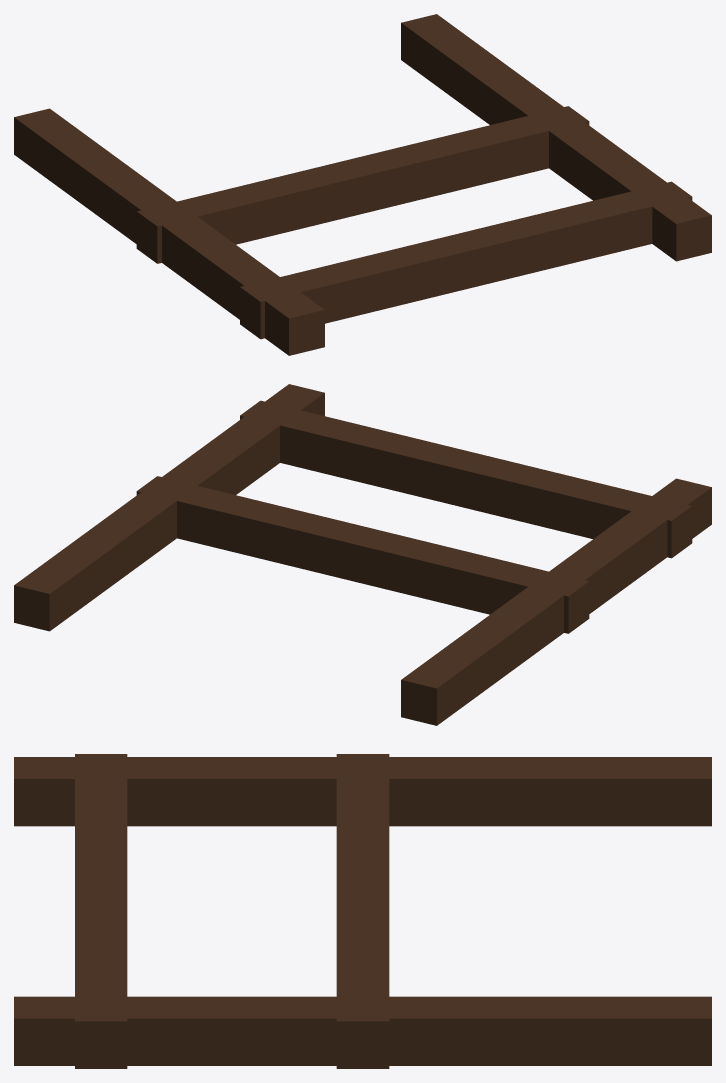
Rendered from SM_CommonToolRack.obj.
3 views of the same model, one above another, from view 1: azimuth 30°, elevation 25°; view 2: azimuth 150°, elevation 25°; view 3: azimuth 270°, elevation 25° (orthographic). The views are drawn at different scales.
Parts seen in each view (by area): view 1: SM_CommonToolRack; view 2: SM_CommonToolRack; view 3: SM_CommonToolRack.
Boxes of the visible parts, x1,y1,x2,y2 form: SM_CommonToolRack: (14,14,711,355); SM_CommonToolRack: (14,384,711,725); SM_CommonToolRack: (14,754,711,1068).
Bounding box in the file's own units: 145 × 12 × 160.
